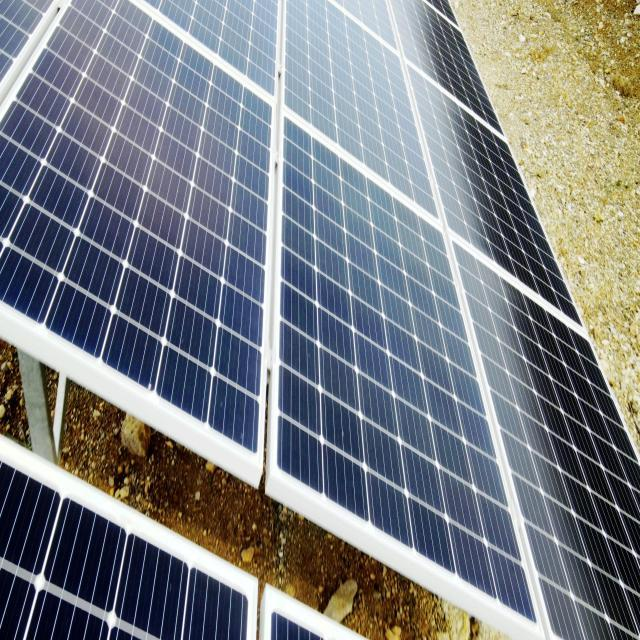no faulty: (270, 110, 533, 624), (0, 1, 275, 487), (448, 230, 637, 640), (432, 62, 586, 336), (283, 3, 452, 232)
